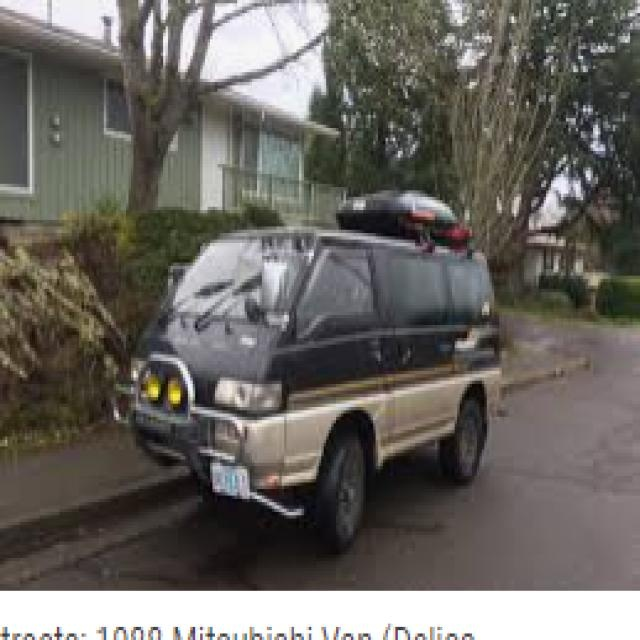Van: (113, 213, 503, 545)
